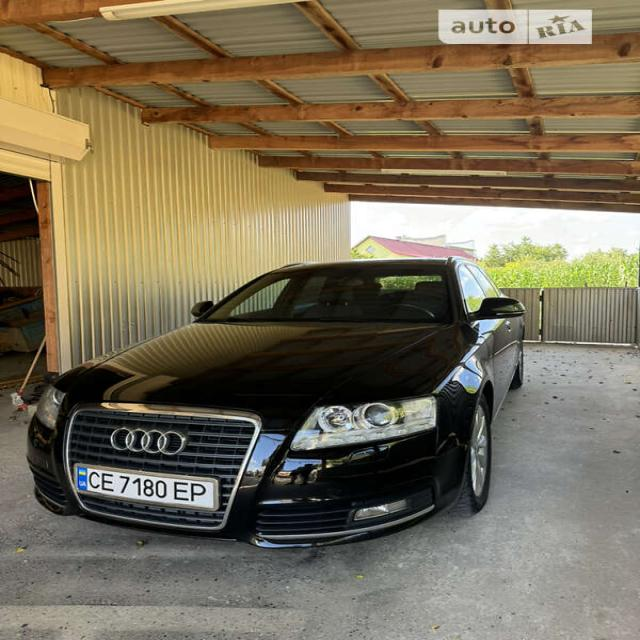plate: (66, 457, 220, 521)
